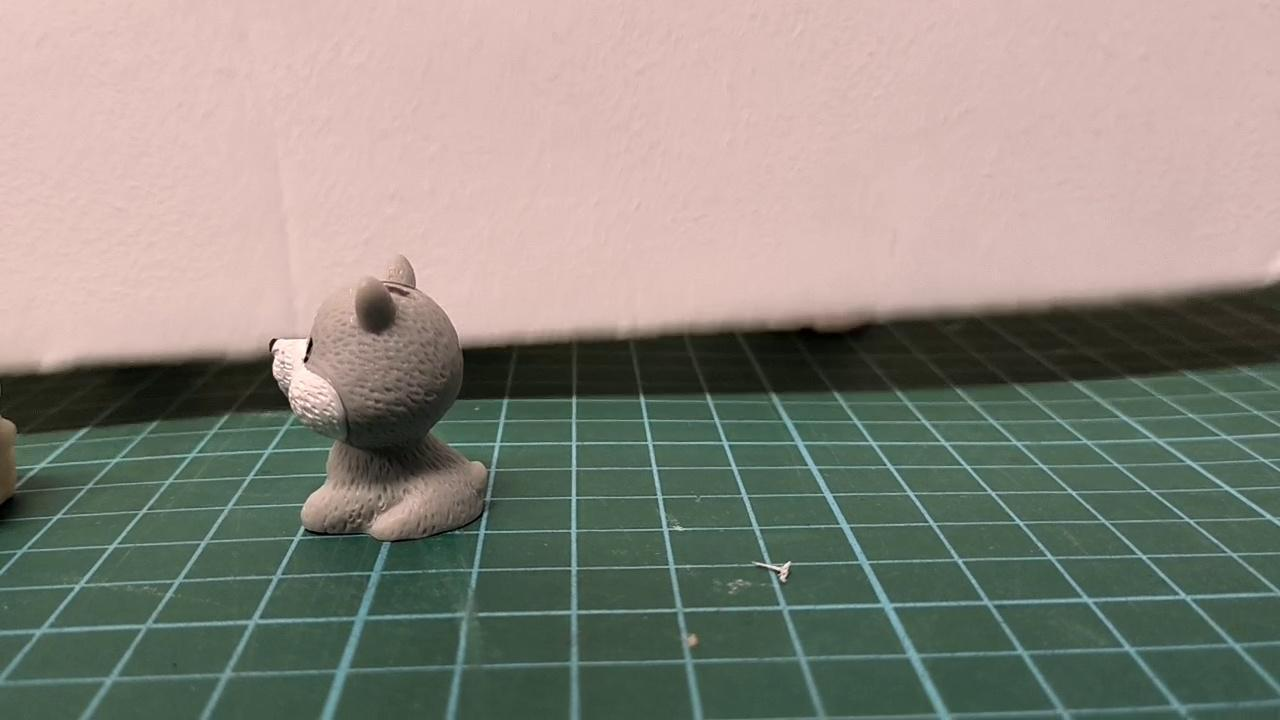pet: (261, 253, 490, 543)
